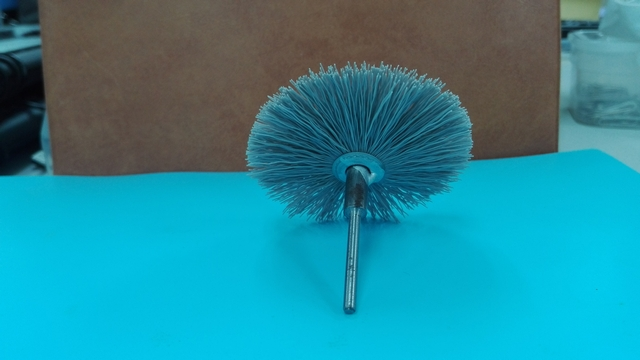TOOL: (223, 48, 481, 265), (253, 31, 480, 253), (207, 29, 394, 276)
